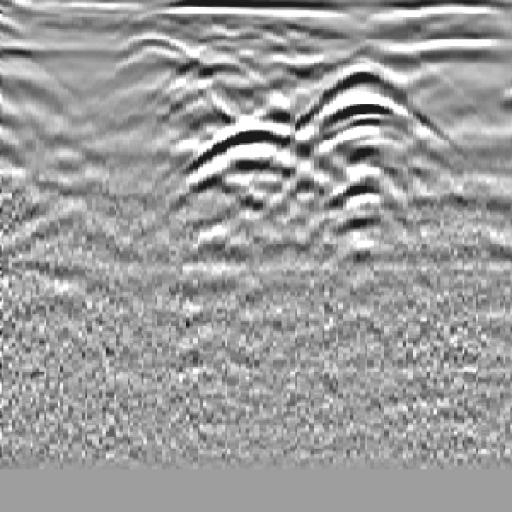metalic: (253, 60, 471, 238)
